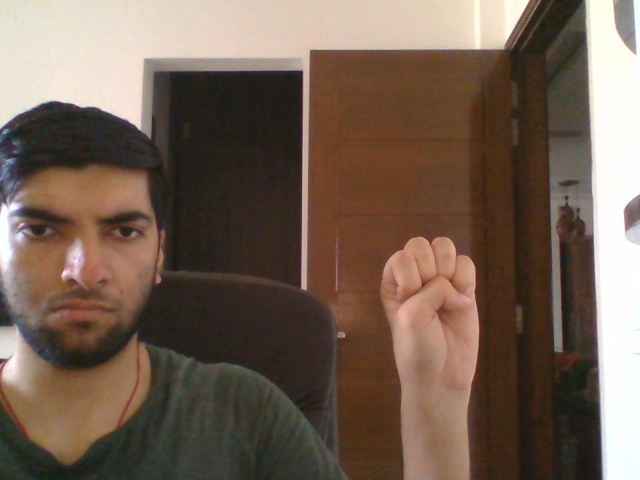LetterS: (378, 231, 482, 399)
